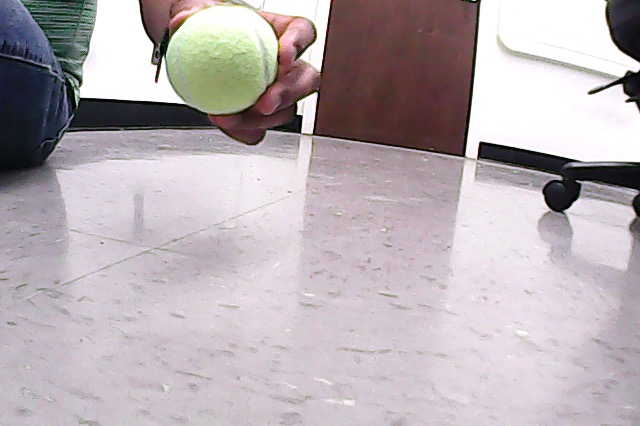ball: (166, 6, 279, 115)
